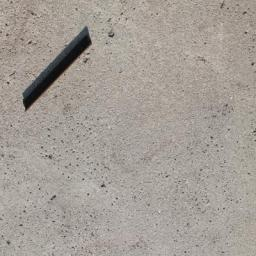FOD: (22, 29, 95, 115)
